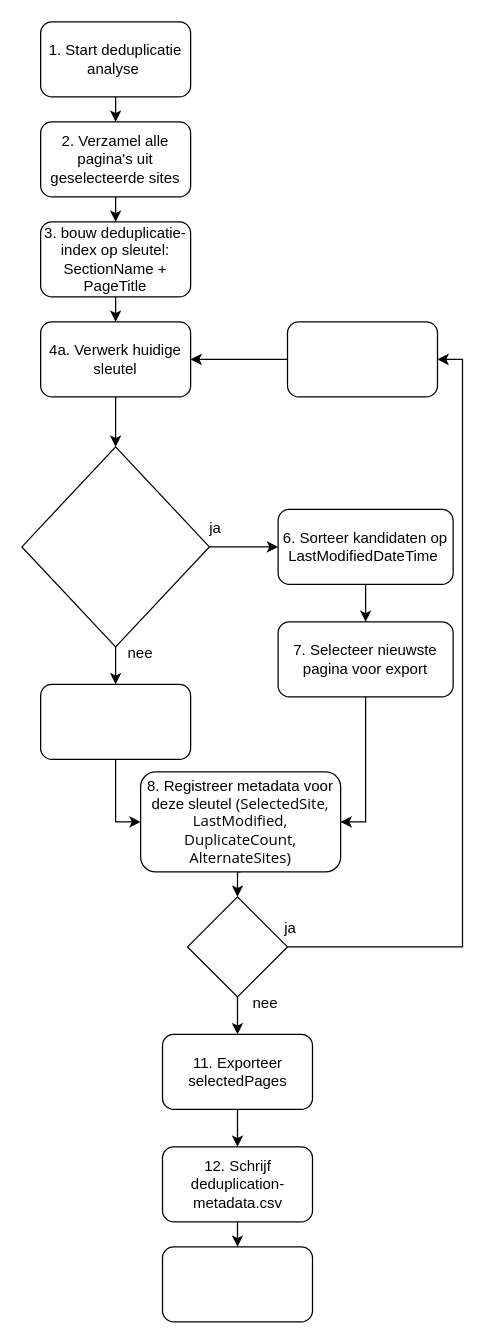
Image size: 495x1344. Some labels were removed from this diagram. Each missing label, with the centre of its shape:
"10. Haal volgende sleutel op" goes at (x=362, y=359).
"13. Einde deduplicatie-fase" goes at (x=236, y=1284).
"4b. meerdere pagina's met zelfde sleutel?" goes at (x=115, y=546).
"5. Markeer pagina als uniek" goes at (x=115, y=721).
"9. Nog sleutels in index?" goes at (x=237, y=946).
